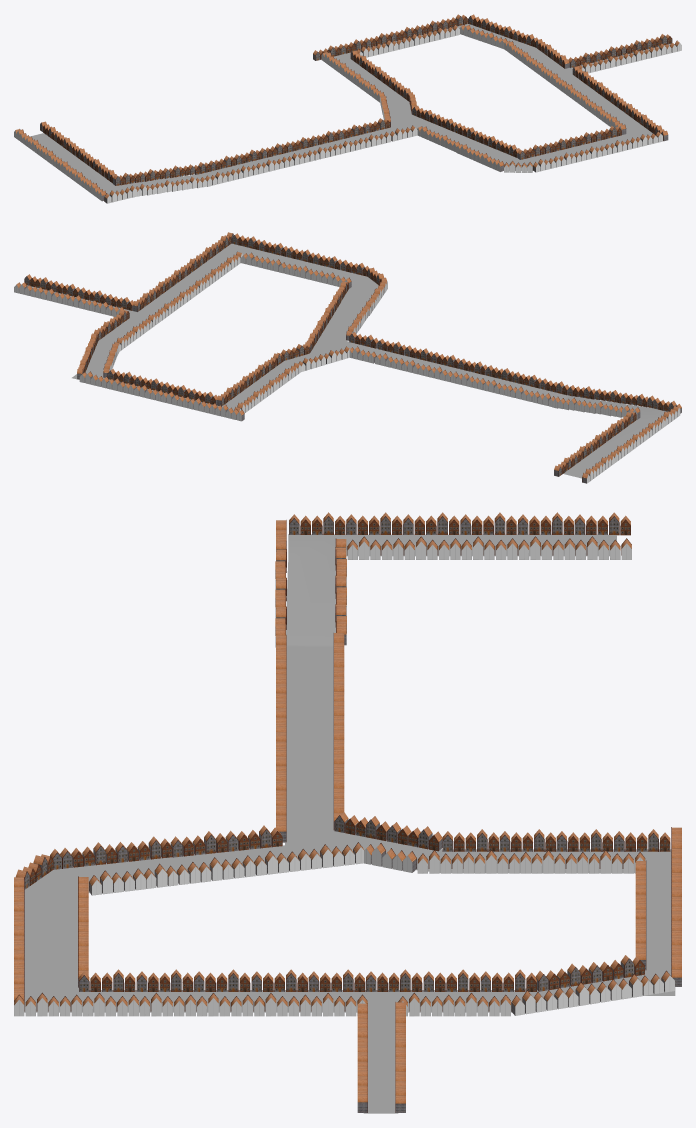
Rendered from city.fbx.
The picture shows the model from 3 angles, top to bottom: view 1: azimuth 30°, elevation 25°; view 2: azimuth 150°, elevation 25°; view 3: azimuth 270°, elevation 25°; orthographic projection. The views are drawn at different scales.
Visible parts, largest first — view 1: pPlane1, pCube153, pCube104, pCube103; view 2: pPlane1, pCube103, pCube104, pCube153; view 3: pPlane1, pCube153, pCube104, pCube103, pCube41, pCube127, pCube154, pCube43, pCube122, pCube60, pCube62, pCube124 (+39 smaller).
Boxes of the visible parts, <box> form: pPlane1: <box>29,24,674,194</box>; pCube153: <box>412,105,498,149</box>; pCube104: <box>113,164,195,185</box>; pCube103: <box>130,175,212,197</box>; pPlane1: <box>27,243,667,478</box>; pCube103: <box>567,385,654,407</box>; pCube104: <box>552,397,640,419</box>; pCube153: <box>305,294,341,352</box>; pPlane1: <box>24,534,675,1113</box>; pCube153: <box>144,842,364,888</box>; pCube104: <box>335,538,346,645</box>; pCube103: <box>275,540,286,647</box>; pCube41: <box>454,993,510,1016</box>; pCube127: <box>82,993,138,1016</box>; pCube154: <box>89,869,145,895</box>; pCube43: <box>511,988,567,1015</box>; pCube122: <box>254,993,310,1016</box>; pCube60: <box>531,851,587,873</box>; pCube62: <box>474,851,530,873</box>; pCube124: <box>139,993,195,1016</box>.
Bounding box in the file's own units: 113223 × 3263 × 56316.
